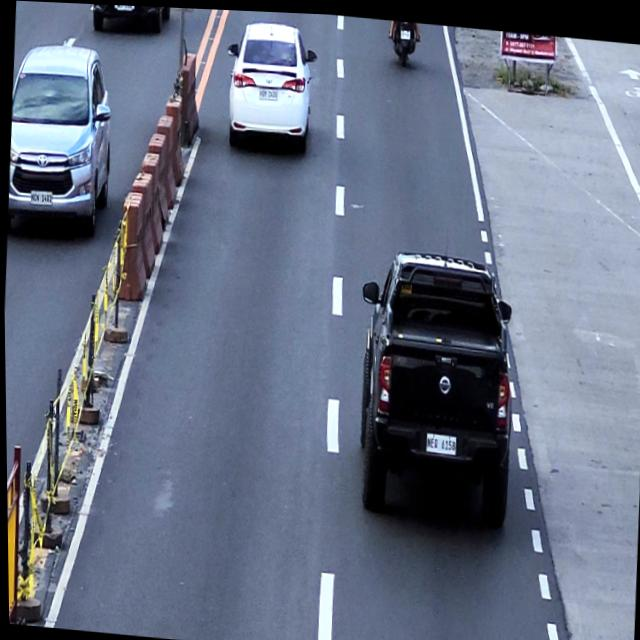Car: (348, 240, 522, 536), (4, 40, 116, 238), (221, 14, 321, 159), (92, 3, 172, 34)
License-Plate: (424, 428, 456, 452), (29, 189, 52, 207), (258, 85, 279, 99), (400, 25, 411, 37), (115, 4, 133, 11)
Motorcycle: (390, 17, 416, 66)
